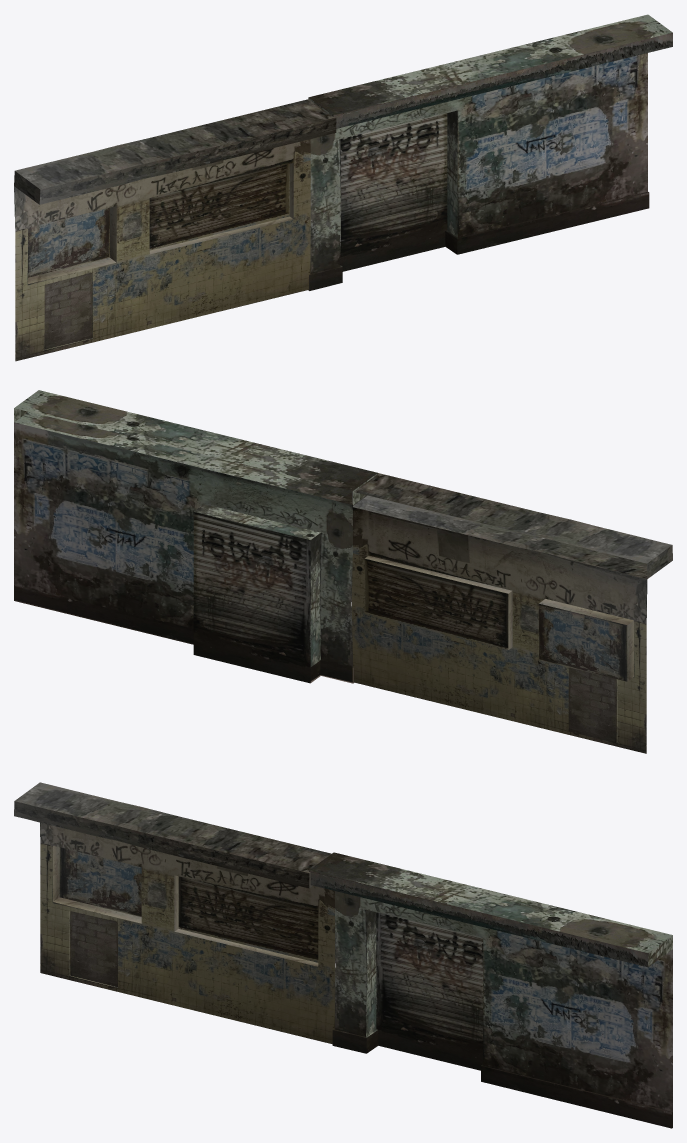
File: old_buildings.glb
3 renders of one model, top to bottom at view 1: azimuth 30°, elevation 25°; view 2: azimuth 150°, elevation 25°; view 3: azimuth 330°, elevation 25°, orthographic.
Visible parts, largest first — view 1: unnamed, unnamed (1); view 2: unnamed, unnamed (1); view 3: unnamed, unnamed (1).
Boxes of the visible parts, x1,y1,x2,y2 form: unnamed: (308,14,672,290); unnamed (1): (14,99,336,361); unnamed: (14,390,377,683); unnamed (1): (352,473,672,753); unnamed: (309,852,672,1128); unnamed (1): (14,782,334,1044).
Size of the model in its own units: 371 by 108 by 37.11.
2 materials, 2 textured.
